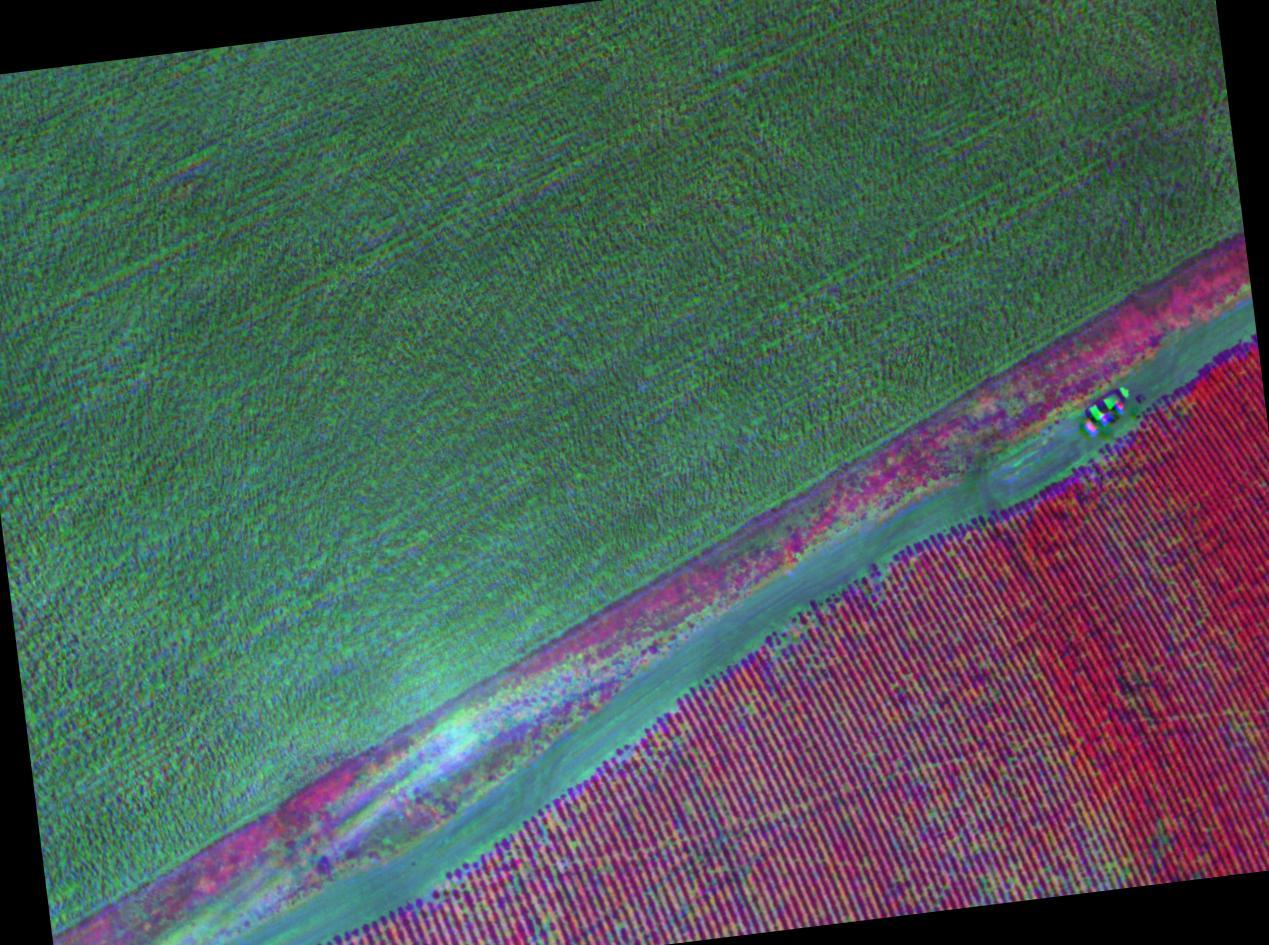dc: (676, 796, 754, 868), (432, 878, 512, 938), (1079, 833, 1141, 891), (964, 846, 1025, 903), (772, 617, 828, 666), (873, 554, 912, 595)
